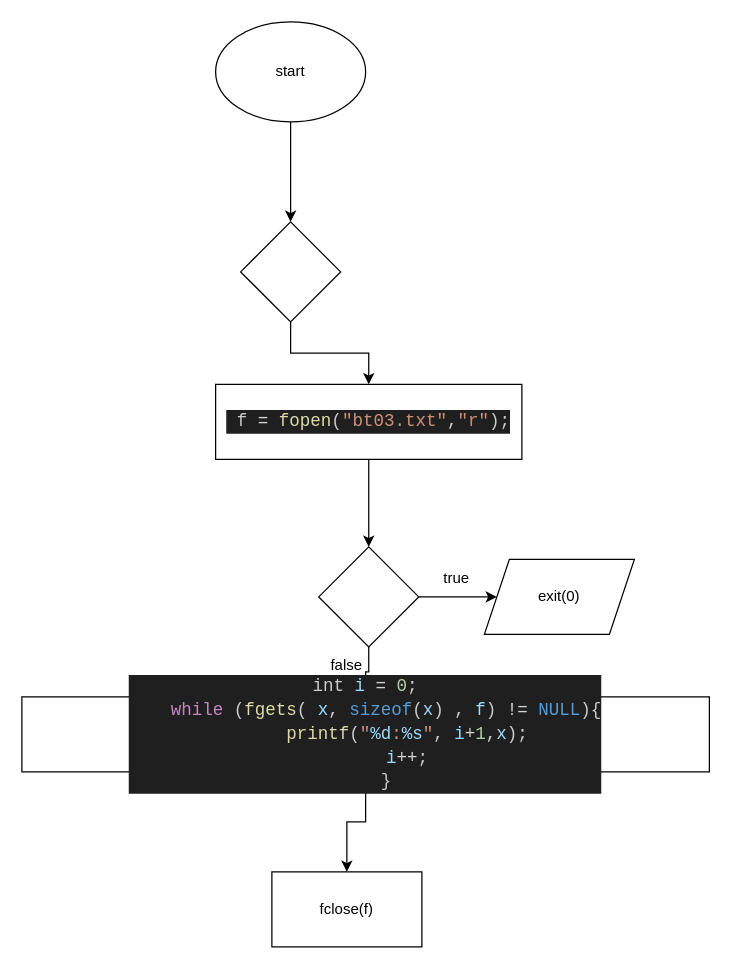
The diagram is 731 pixels wide and 969 high, and some of its shapes have lost their labels. Here are the shapes that lost their labels. From the top down, the centre of each, then its label:
At point (290, 271): "input n".
At point (368, 596): "f == null".
